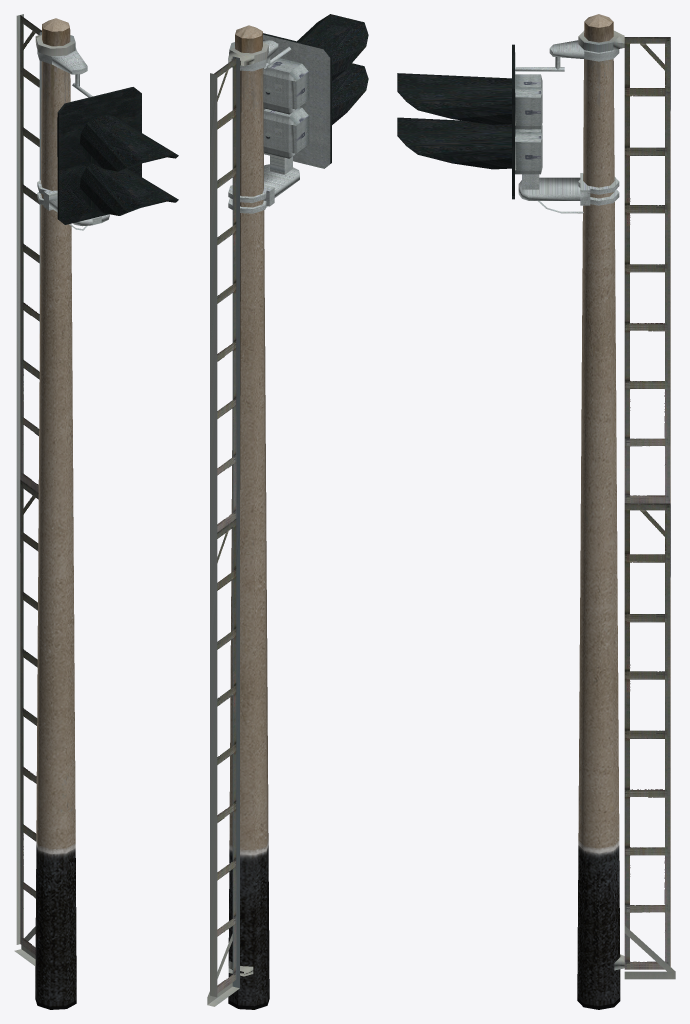
Rendered from shunting_mast.obj.
The picture shows the model from 3 angles, left to right: view 1: azimuth 30°, elevation 25°; view 2: azimuth 150°, elevation 25°; view 3: azimuth 270°, elevation 25°; orthographic projection.
Parts seen in each view (by area): view 1: Body_0_Footing_concrete, Body_2_Signal, Body_1_Stairway; view 2: Body_0_Footing_concrete, Body_1_Stairway, Body_2_Signal; view 3: Body_0_Footing_concrete, Body_1_Stairway, Body_2_Signal.
Part boxes in pixels (bbox=[...]): Body_0_Footing_concrete: bbox=[35, 18, 76, 1009]; Body_2_Signal: bbox=[37, 47, 178, 230]; Body_1_Stairway: bbox=[14, 14, 75, 966]; Body_0_Footing_concrete: bbox=[228, 25, 269, 1009]; Body_1_Stairway: bbox=[207, 42, 268, 1006]; Body_2_Signal: bbox=[228, 14, 368, 213]; Body_0_Footing_concrete: bbox=[577, 14, 620, 1009]; Body_1_Stairway: bbox=[578, 30, 675, 979]; Body_2_Signal: bbox=[397, 40, 619, 213].
Bounding box in the file's own units: 0.5618 × 6.38 × 1.63.
Materials: 5 (5 with a texture image).
